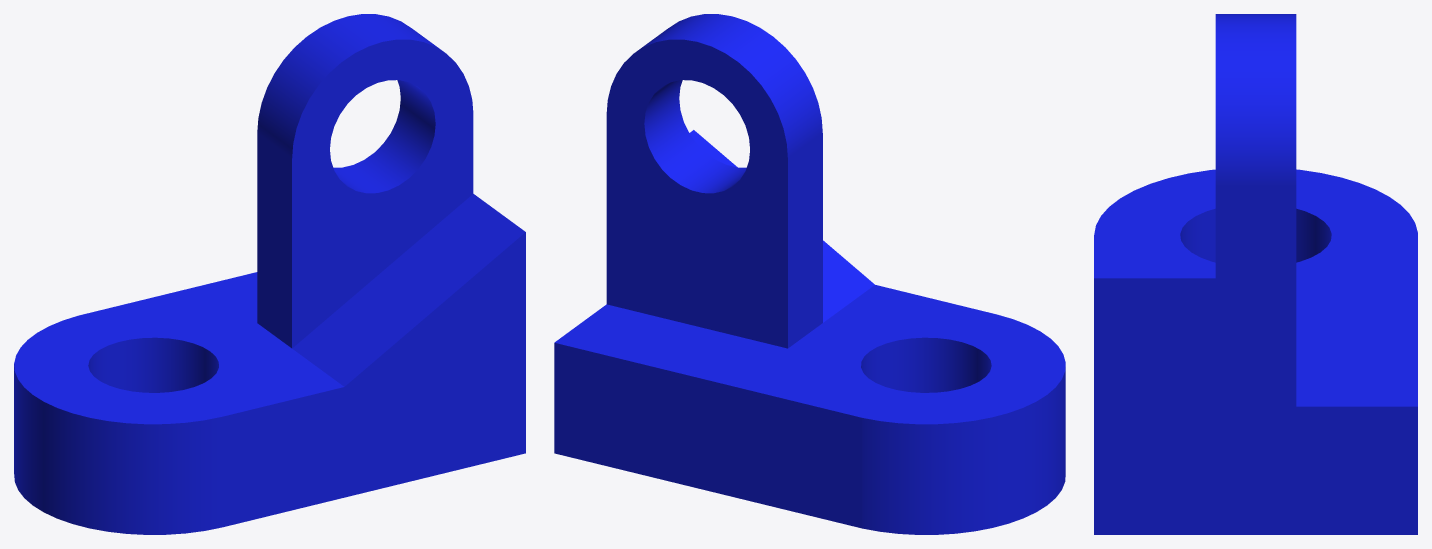
Rendered from asset.glb.
The picture shows the model from 3 angles, left to right: view 1: azimuth 30°, elevation 25°; view 2: azimuth 150°, elevation 25°; view 3: azimuth 270°, elevation 25°; orthographic projection. The views are drawn at different scales.
Visible parts, largest first — view 1: Solid1; view 2: Solid1; view 3: Solid1.
Boxes of the visible parts, <box> form: Solid1: <box>14,14,525,534</box>; Solid1: <box>554,14,1065,534</box>; Solid1: <box>1094,14,1417,534</box>.
Size of the model in its own units: 0.112 by 0.1 by 0.064.
